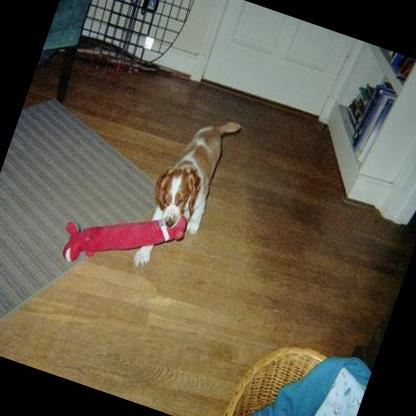Welsh_springer_spaniel: (127, 100, 243, 282)
